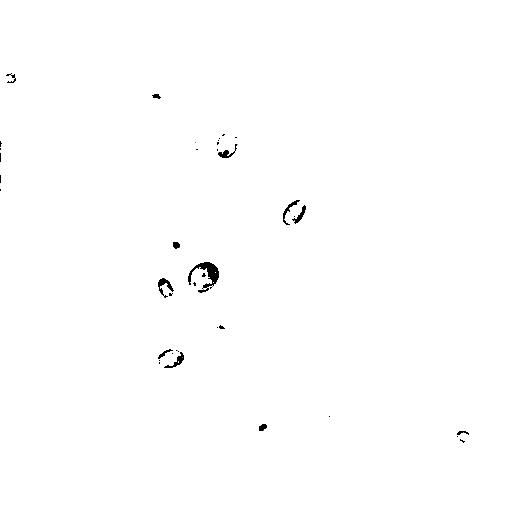micro-algae: (242, 411, 280, 442), (187, 262, 220, 295), (153, 227, 189, 257), (282, 198, 308, 227), (273, 181, 297, 212), (215, 131, 239, 159), (157, 347, 186, 369), (157, 277, 175, 299), (455, 429, 473, 445), (1, 71, 19, 85), (190, 139, 200, 152)
